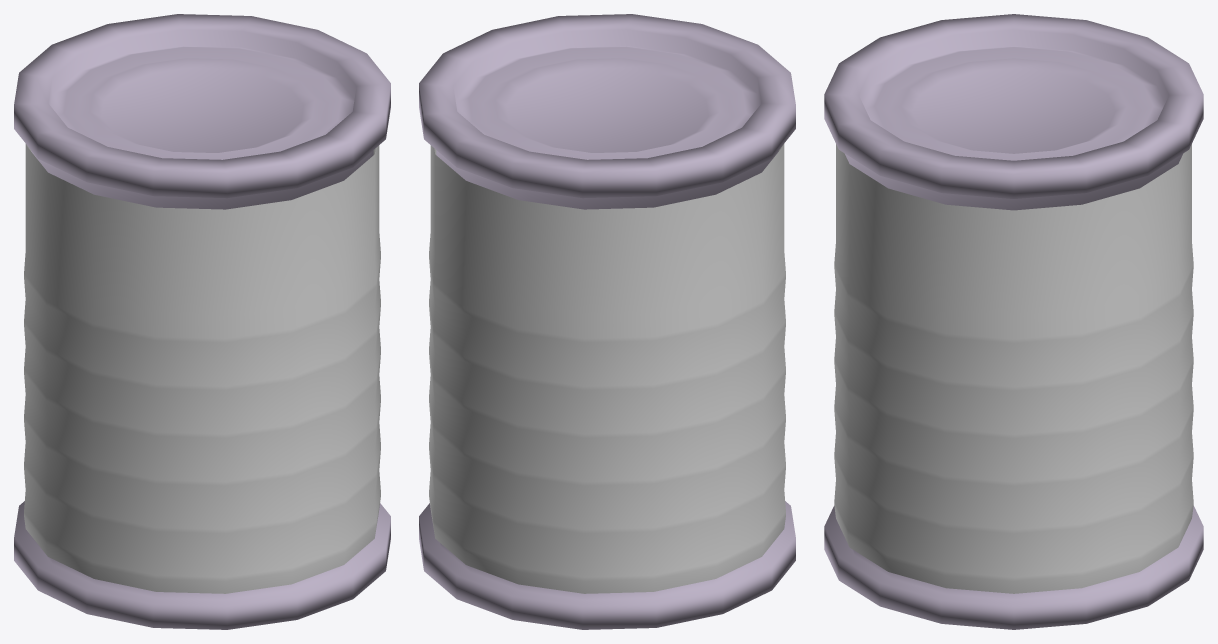
Rendered from can.glb.
The picture shows the model from 3 angles, left to right: view 1: azimuth 30°, elevation 25°; view 2: azimuth 150°, elevation 25°; view 3: azimuth 270°, elevation 25°; orthographic projection.
Parts seen in each view (by area): view 1: Cylinder.001, Cylinder; view 2: Cylinder.001, Cylinder; view 3: Cylinder.001, Cylinder.
Boxes of the visible parts, left/top/right/bottom form: Cylinder.001: left=24, top=144, right=380, bottom=593; Cylinder: left=14, top=14, right=390, bottom=629; Cylinder.001: left=429, top=144, right=785, bottom=593; Cylinder: left=419, top=14, right=795, bottom=629; Cylinder.001: left=834, top=144, right=1193, bottom=593; Cylinder: left=824, top=14, right=1203, bottom=629.
Bounding box in the file's own units: 0.0803 × 0.1065 × 0.0803.
